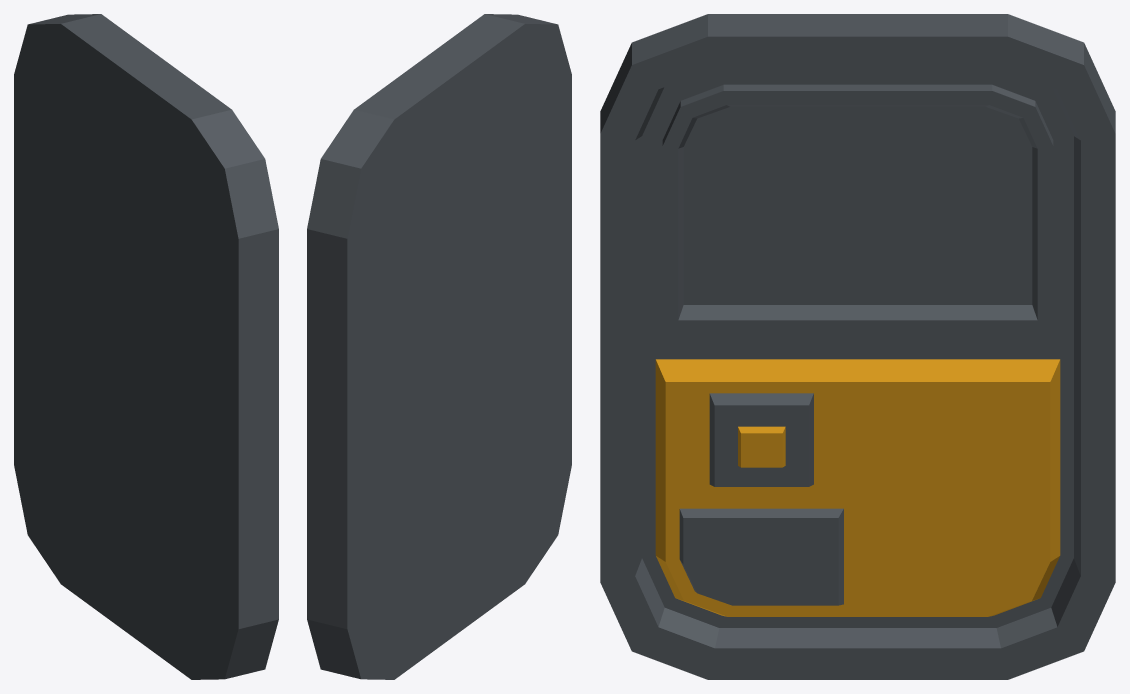
Rendered from Fighter_04_Detail_2_Yellow.fbx.
3 renders of one model, left to right at view 1: azimuth 30°, elevation 25°; view 2: azimuth 150°, elevation 25°; view 3: azimuth 270°, elevation 25°, orthographic. The views are drawn at different scales.
Visible parts, largest first — view 1: Fighter_04_Detail_2_Yellow; view 2: Fighter_04_Detail_2_Yellow; view 3: Fighter_04_Detail_2_Yellow.
Boxes of the visible parts, <box> form: Fighter_04_Detail_2_Yellow: <box>14,14,278,679</box>; Fighter_04_Detail_2_Yellow: <box>307,14,571,679</box>; Fighter_04_Detail_2_Yellow: <box>600,14,1115,679</box>.
Bounding box in the file's own units: 18.34 × 159 × 115.
Materials: 2 (2 with a texture image).
